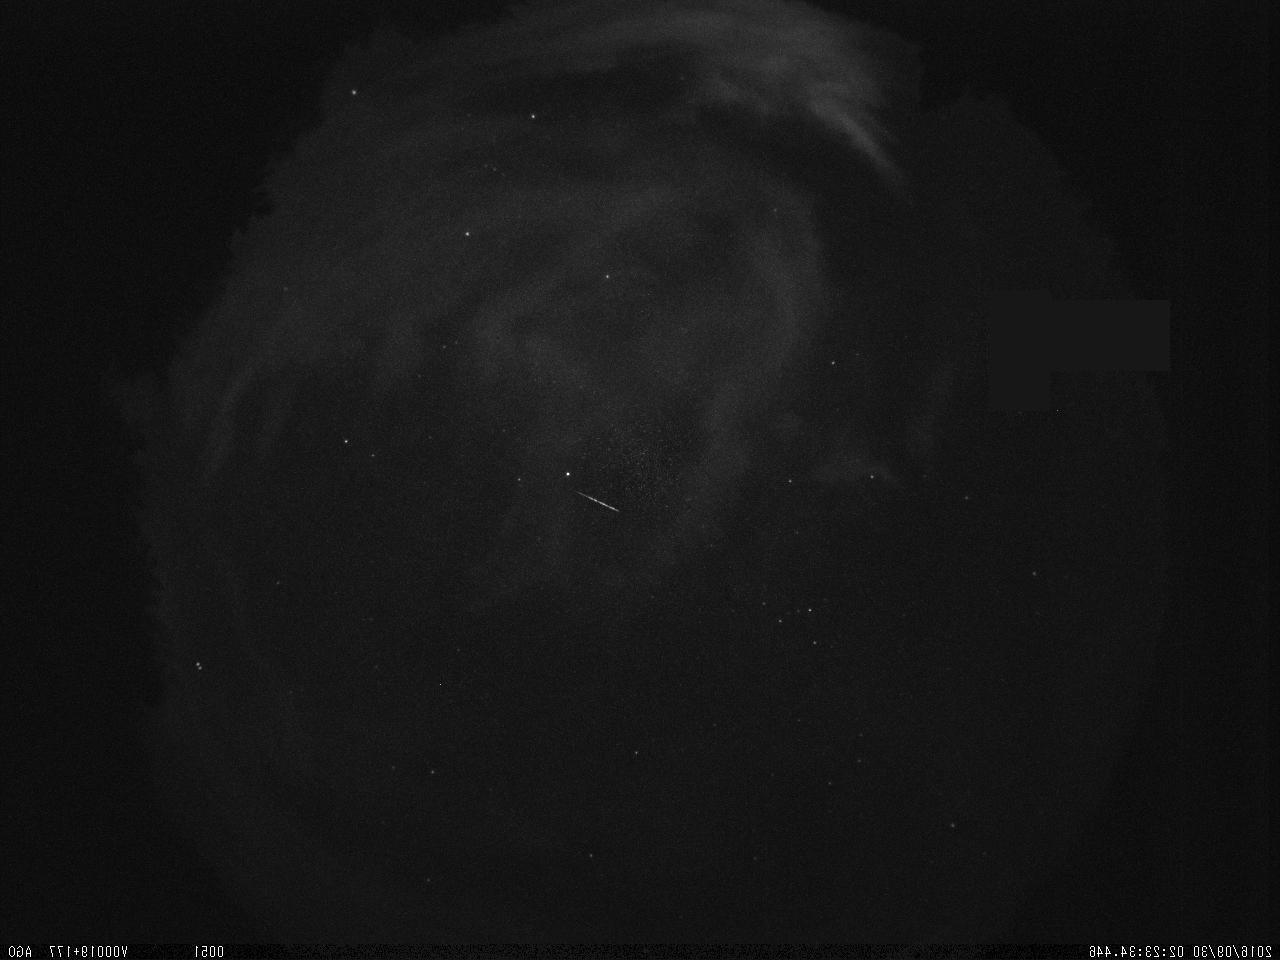meteor: (567, 484, 636, 522)
